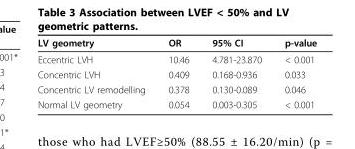table: (36, 36, 316, 109)
table column: (36, 36, 156, 109), (200, 36, 272, 109), (156, 36, 200, 109), (272, 36, 316, 109)
table column header: (36, 36, 316, 50)
table row: (36, 50, 316, 66), (36, 66, 316, 81), (36, 81, 316, 96), (36, 36, 316, 50), (36, 96, 316, 109)
